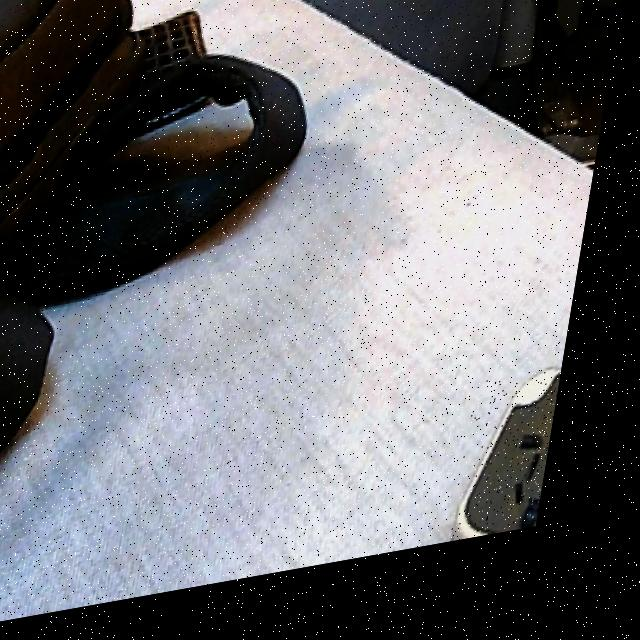adapter: (468, 386, 579, 562)
